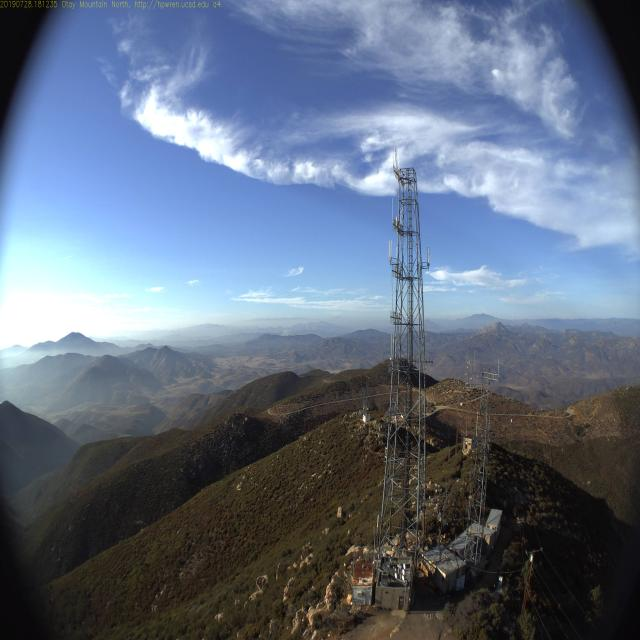smoke: (274, 319, 294, 345)
